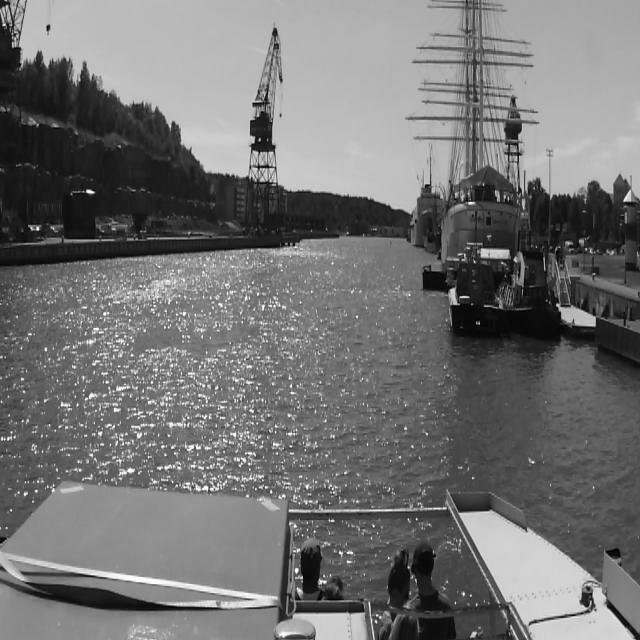ship: (402, 0, 544, 286), (444, 205, 500, 342), (502, 235, 562, 334), (409, 172, 446, 252), (423, 190, 443, 255)
